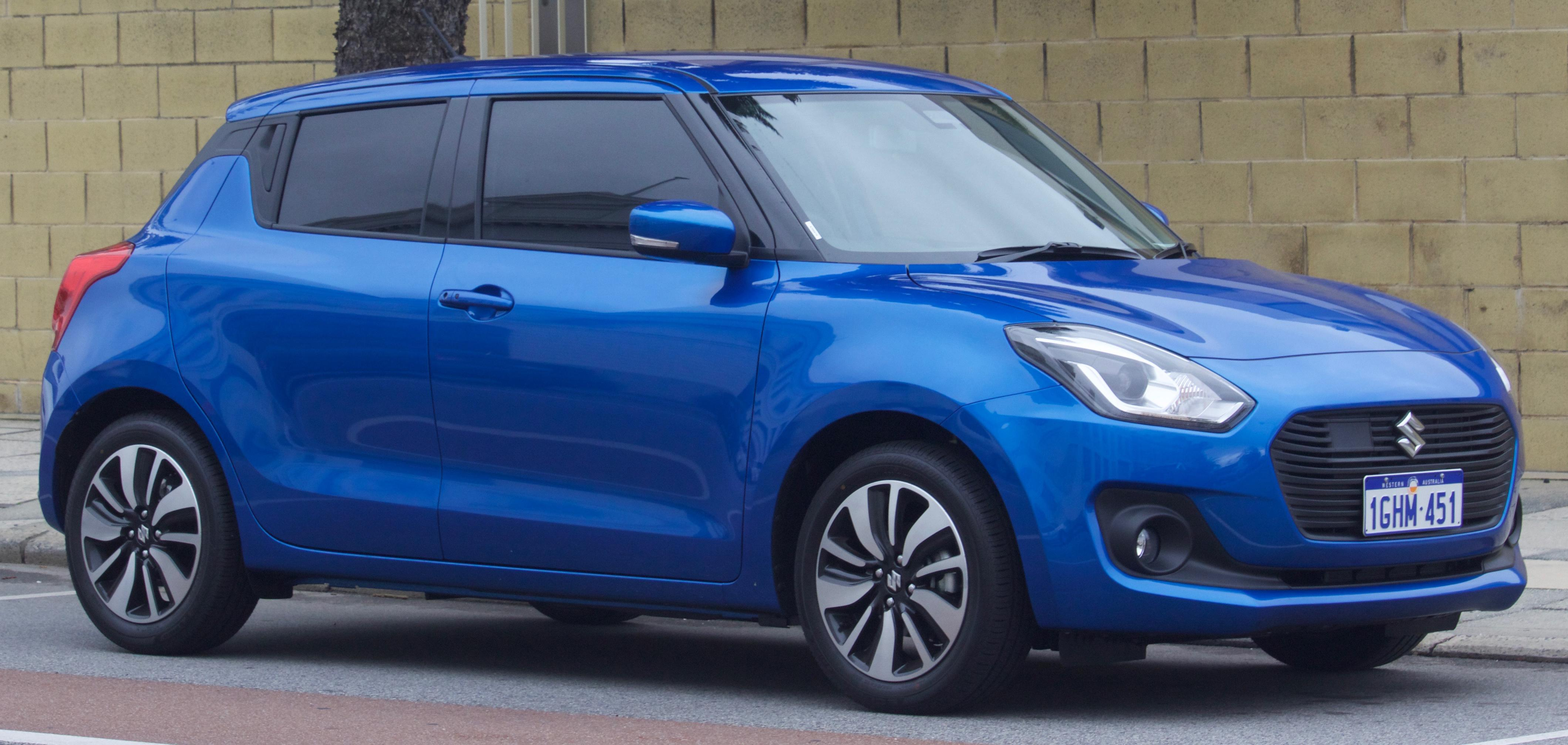Hatchback: (33, 50, 1531, 708)
